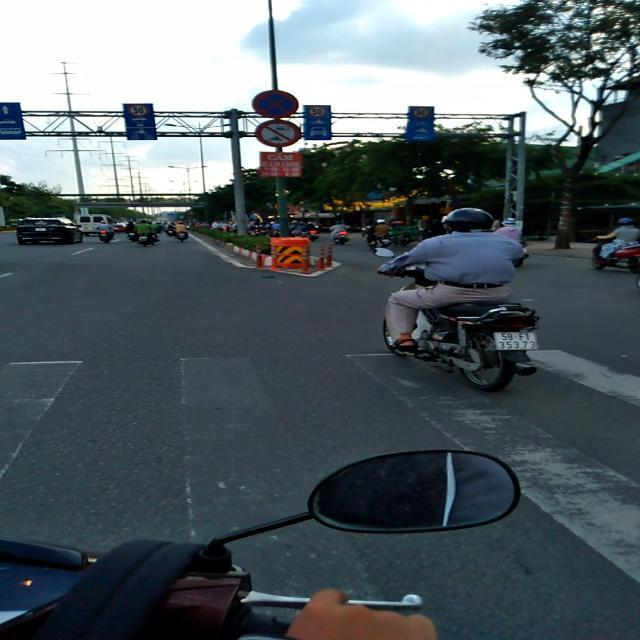130-cam-dung-va-do-xe: (248, 88, 300, 118)
